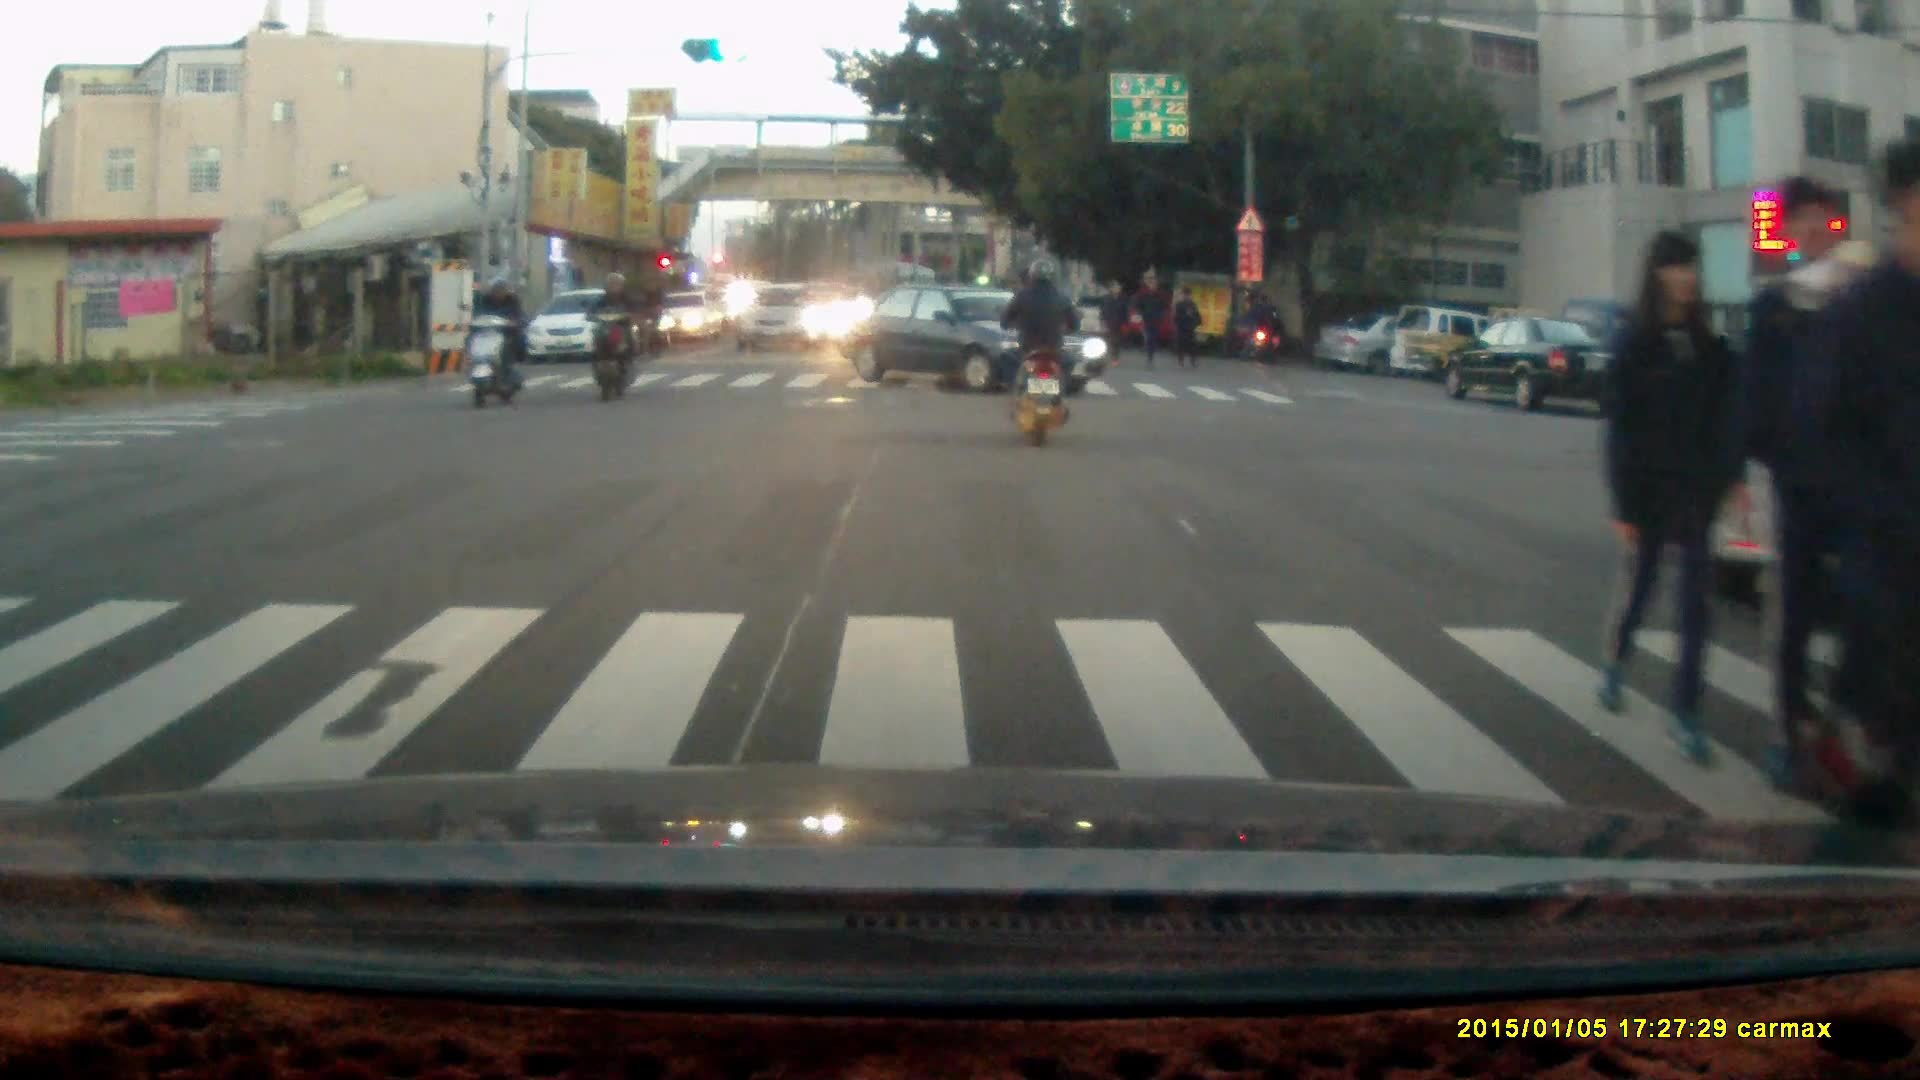pedestrian: (1592, 221, 1743, 766), (1744, 177, 1874, 799), (1809, 136, 1920, 798), (1132, 273, 1166, 370), (1169, 283, 1202, 374), (1097, 279, 1127, 361), (1250, 289, 1281, 366)
rider: (994, 253, 1080, 448), (580, 267, 646, 402), (463, 269, 527, 407)
vehicle: (829, 277, 1109, 398), (1449, 314, 1626, 412), (1316, 309, 1492, 378), (529, 290, 645, 368), (741, 285, 828, 358)
